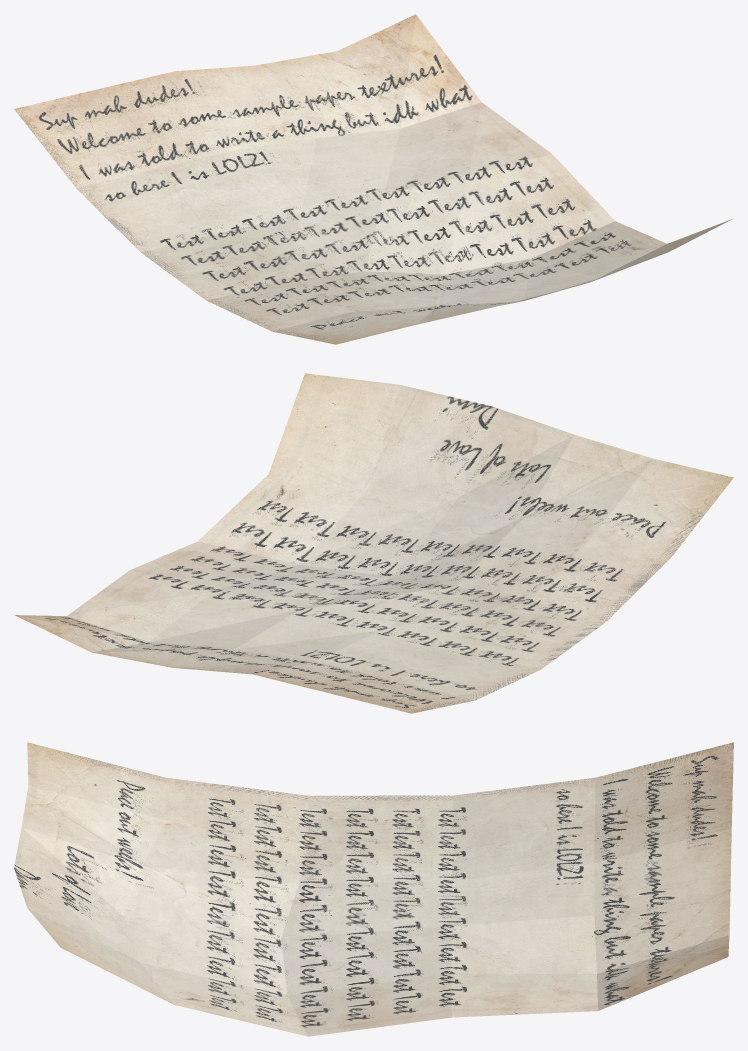
Rendered from Paper1 (1).fbx.
3 views of the same model, one above another, from view 1: azimuth 30°, elevation 25°; view 2: azimuth 150°, elevation 25°; view 3: azimuth 270°, elevation 25° (orthographic). The views are drawn at different scales.
Parts seen in each view (by area): view 1: Paper1; view 2: Paper1; view 3: Paper1.
Part boxes in pixels (<box>): Paper1: <box>14,14,732,344</box>; Paper1: <box>14,373,733,713</box>; Paper1: <box>14,742,733,1036</box>.
Size of the model in its own units: 25.43 by 5.36 by 34.85.
